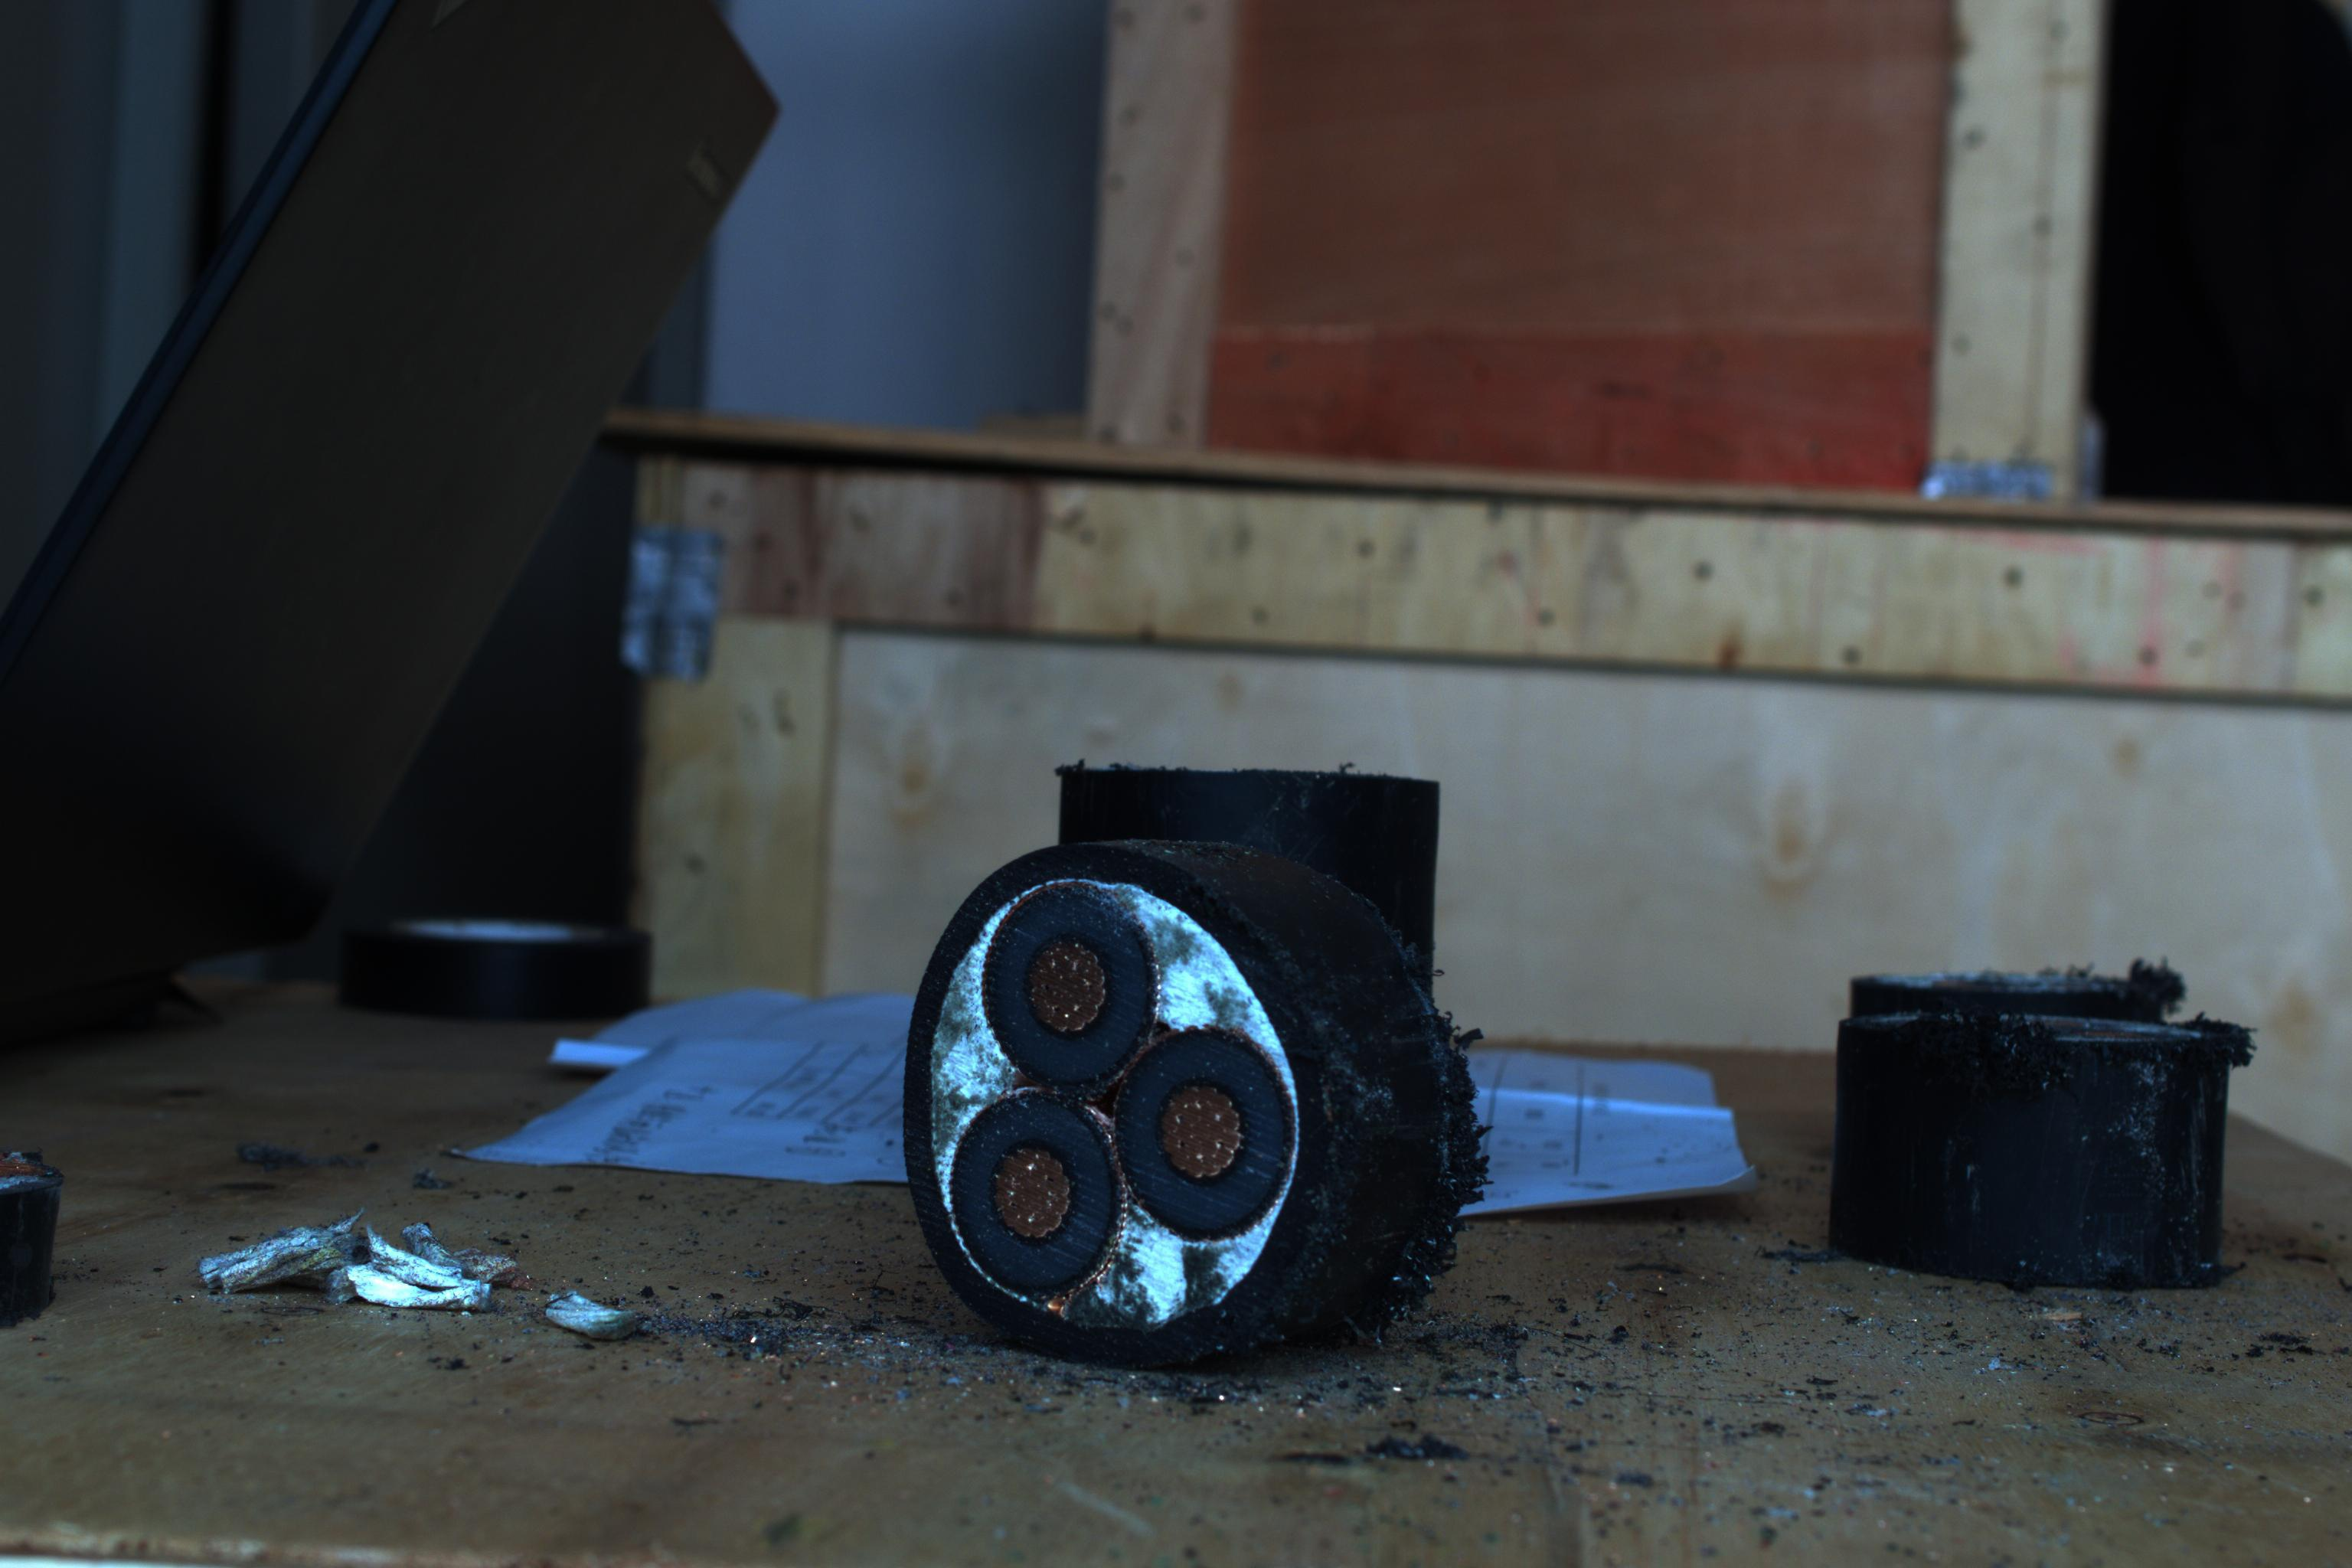YJV_8.7_10kV_3x70: (894, 833, 1344, 1365)
